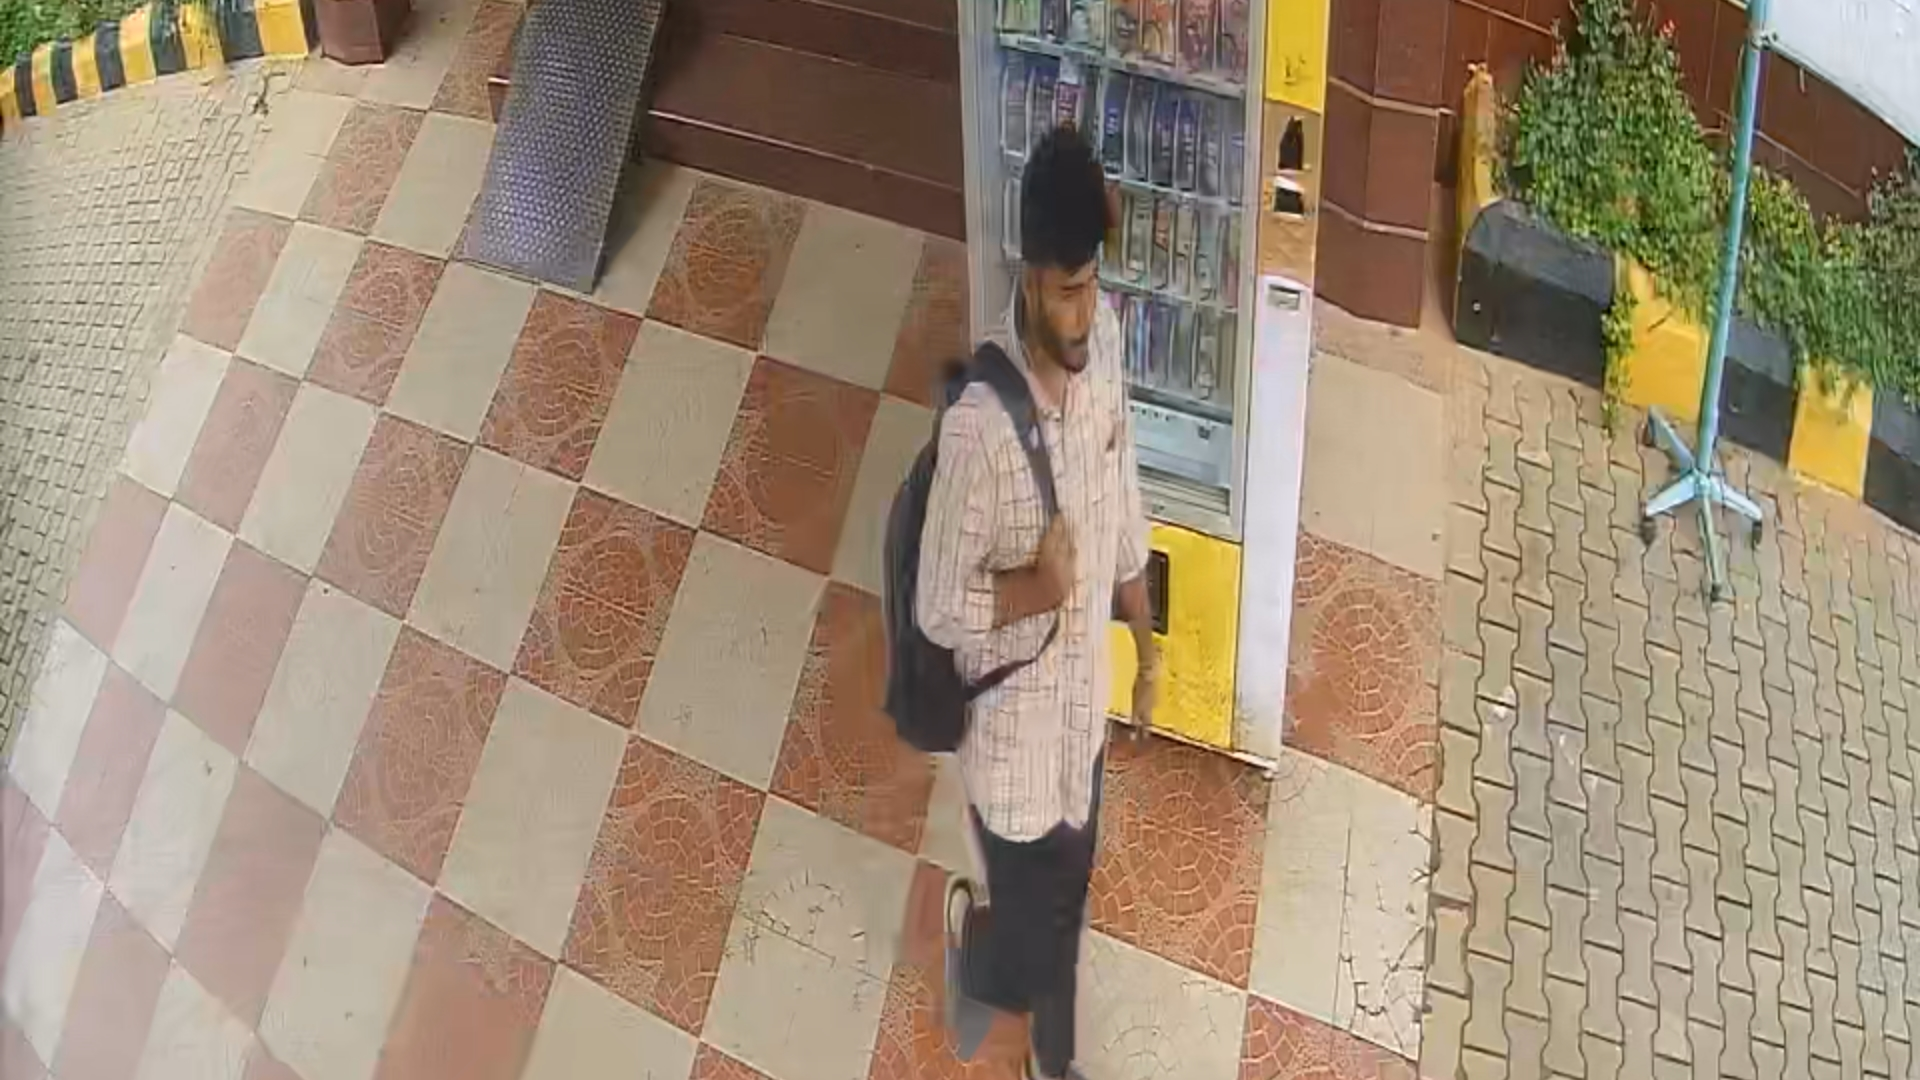intruder: (891, 116, 1154, 1080)
